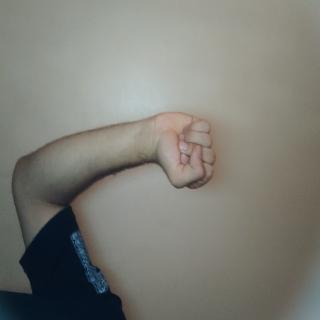SAD: (82, 133, 145, 238)
